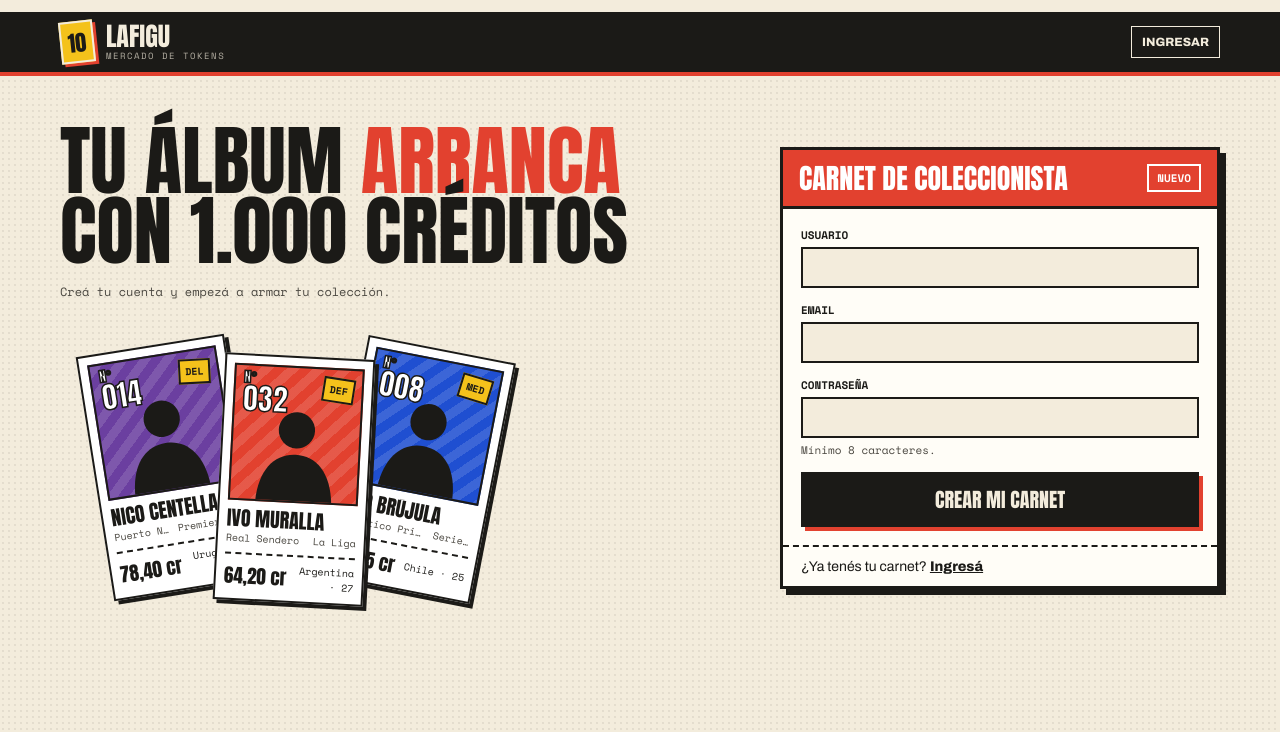
it: RegisterPage › validates required fields, email, password, focus and per-field clearing
Submit the form "Crear mi carnet", box [801, 227, 1199, 527]
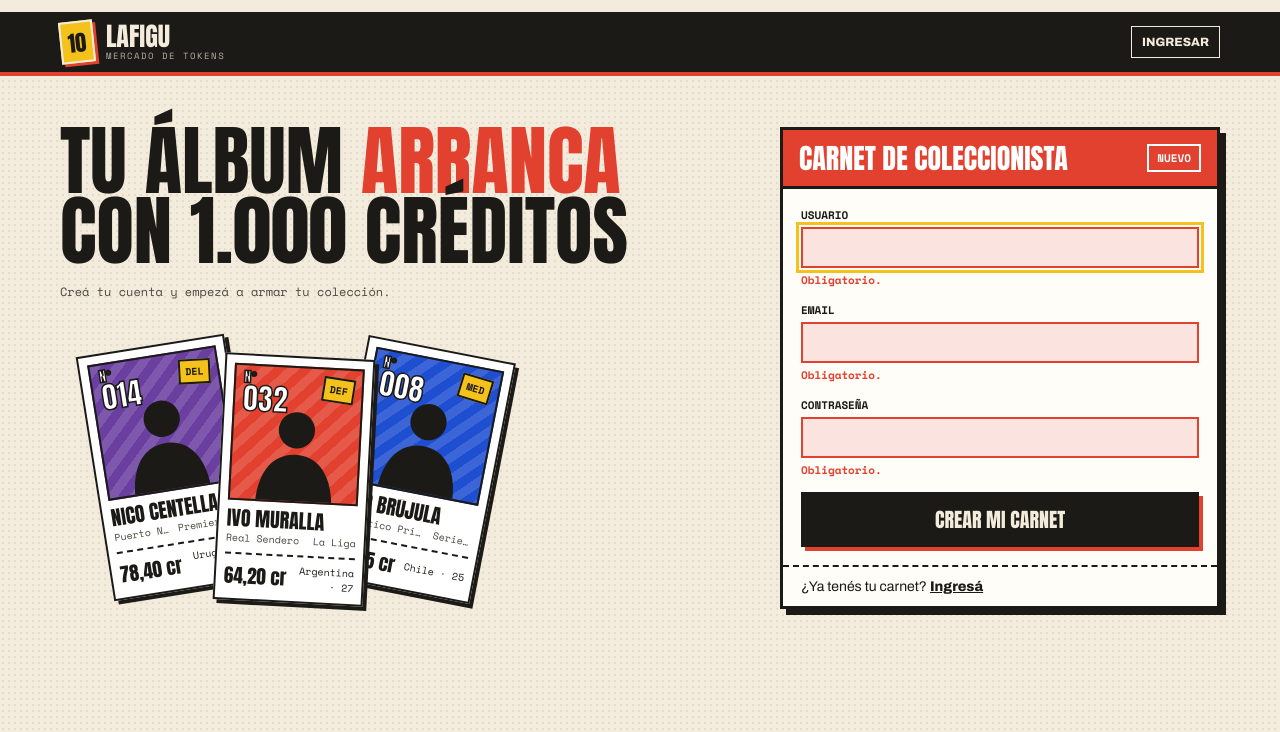
Result: the text "Obligatorio." is shown 3 times at [801, 272, 882, 288]; [801, 367, 882, 383]; [801, 462, 882, 478]
Type "abril" into the field labelled "Usuario".
click(1000, 248); type("abril")  # box [801, 227, 1199, 268]
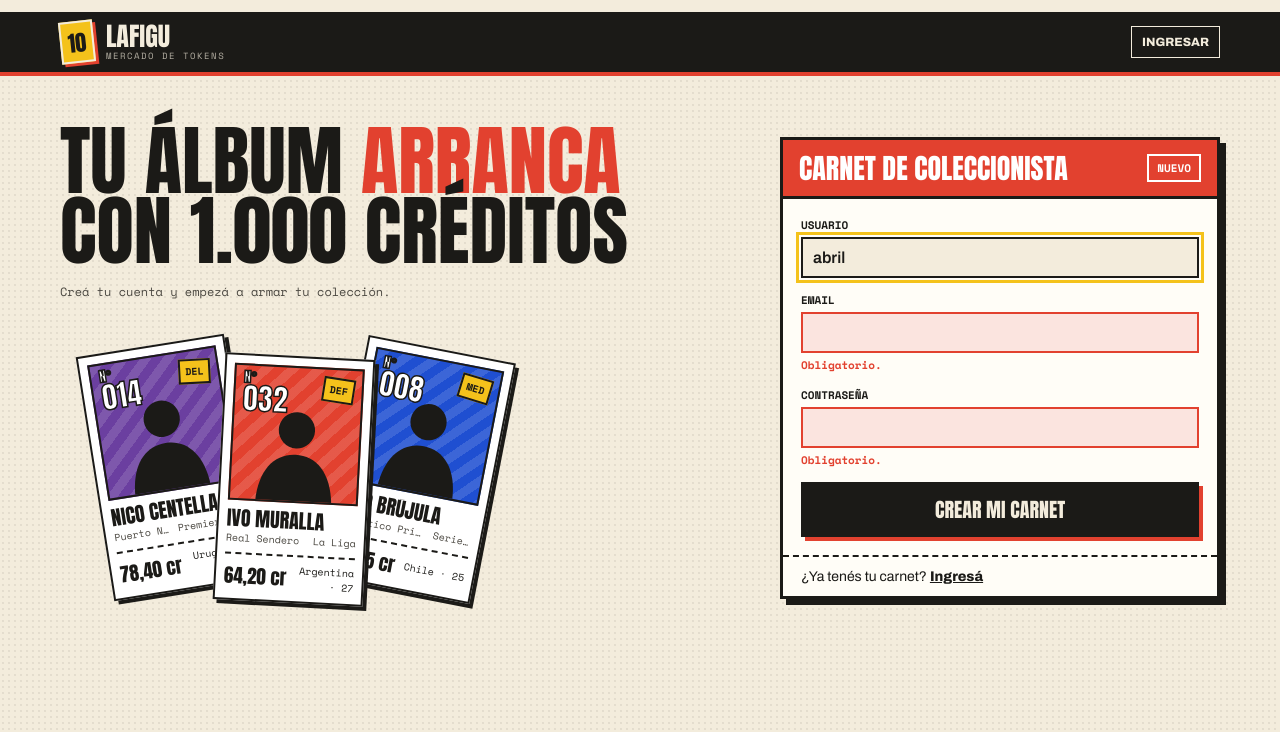
Result: the text "Obligatorio." is shown 2 times at [801, 357, 882, 373]; [801, 452, 882, 468]
Type "abril@" into the field labelled "Email".
click(1000, 332); type("abril@")  # box [801, 312, 1199, 353]
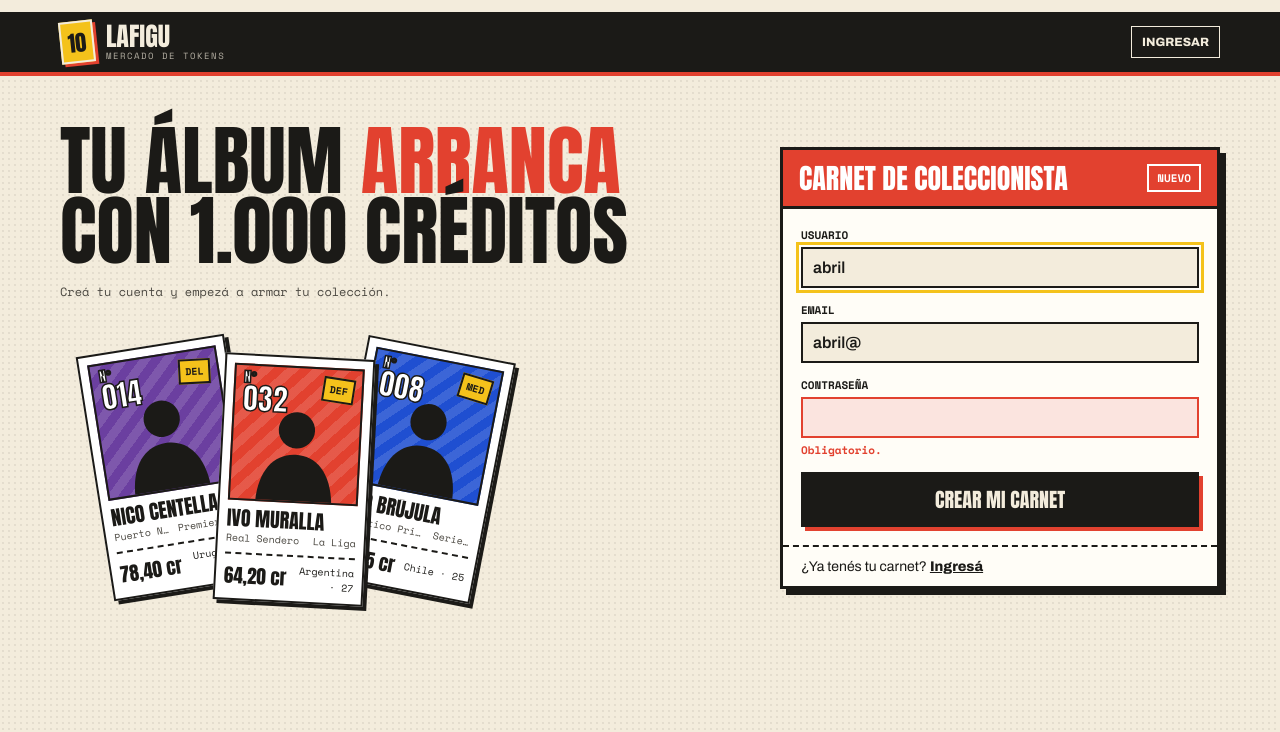
Type "1234567" into the password field labelled "Contraseña".
click(1000, 418); type("1234567")  # box [801, 397, 1199, 438]
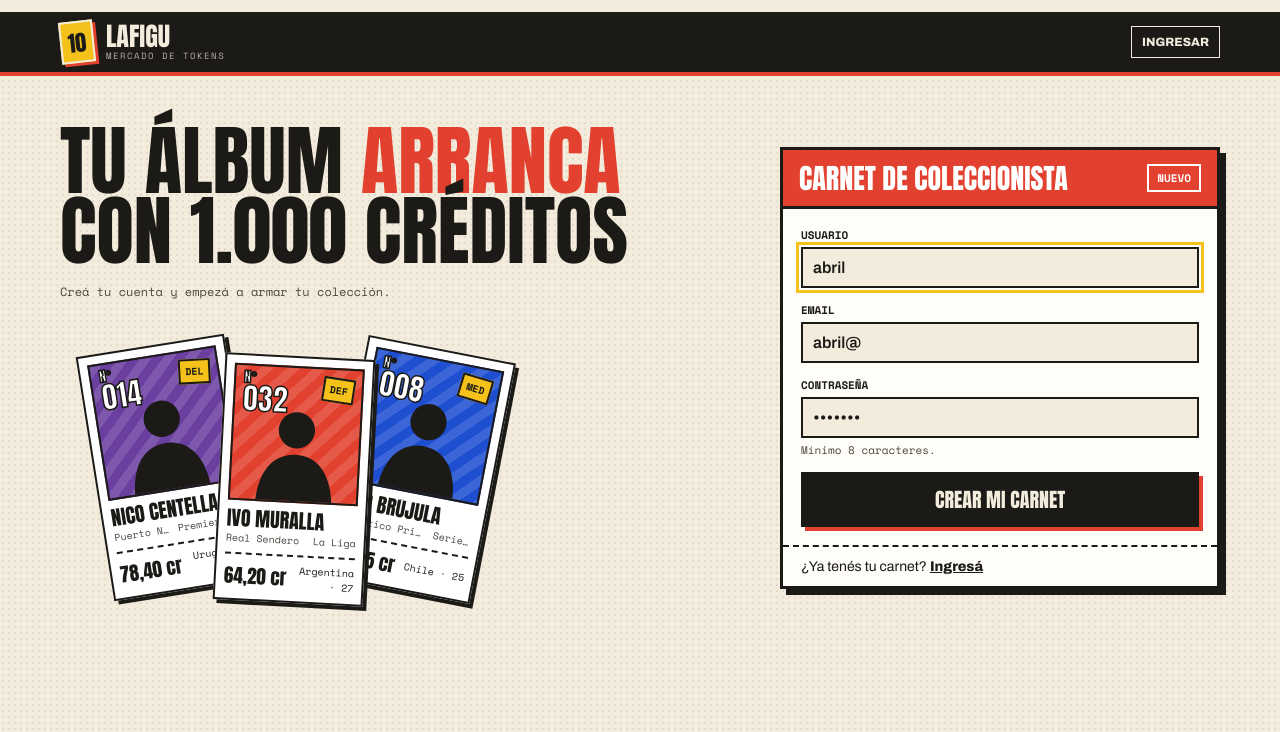
Submit the form "Crear mi carnet", box [801, 227, 1199, 527]
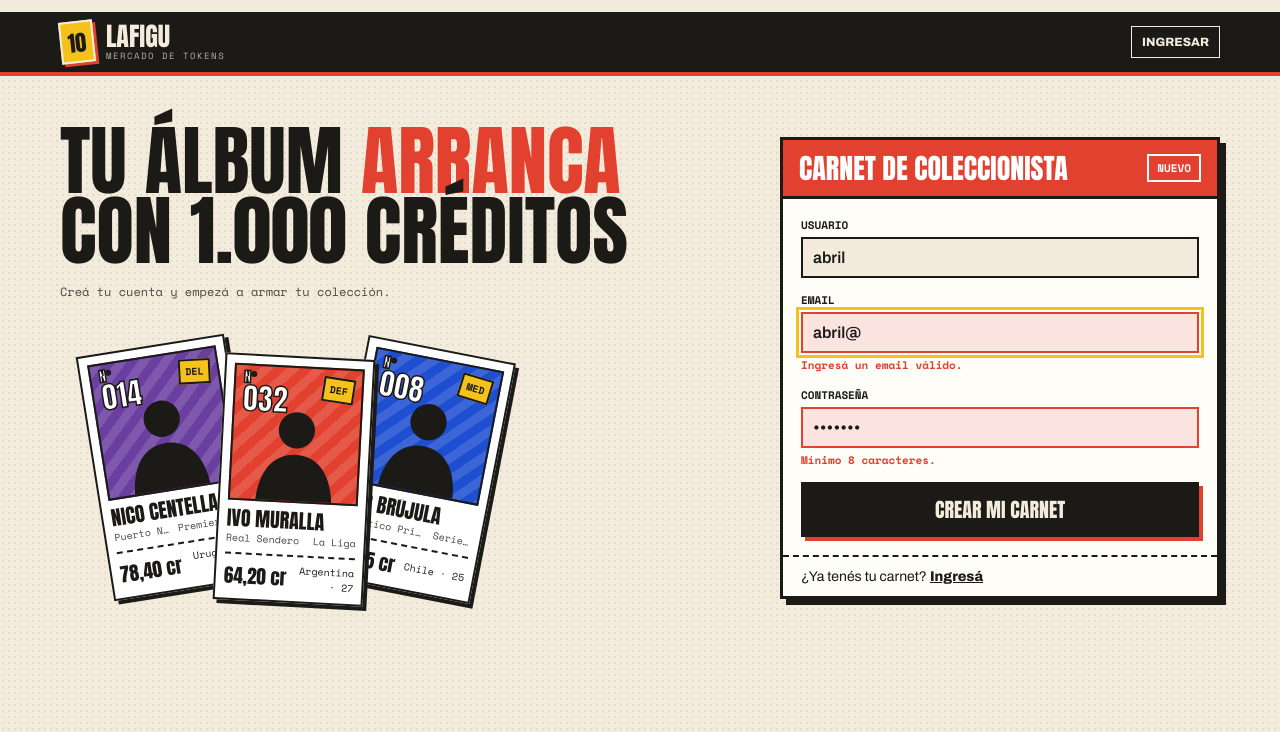
Result: the text "Mínimo 8 caracteres." is shown at [801, 452, 936, 468]
Result: the text "Ingresá un email válido." is shown at [801, 357, 963, 373]
